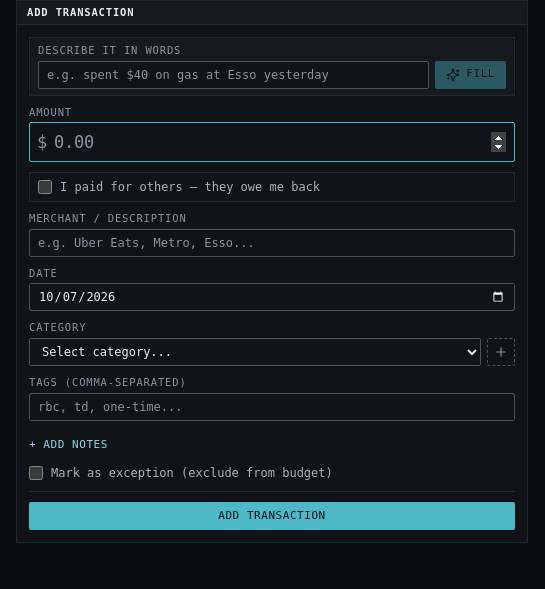
Test: categorisation tier 1 — keywords › suggests from a keyword as the merchant is typed, consulting nothing else
In the dropdown labelled "Merchant / Description": (272, 243) [29,229,515,257], type "Starbucks"
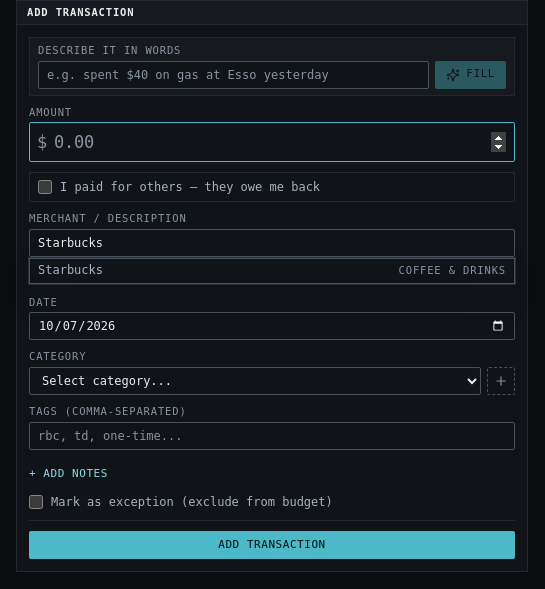
expect the button "Auto-categorize as \"Dining Out\"" reads "Auto-categorize as \"Dining Out\"": met, box [29,261,270,285]
